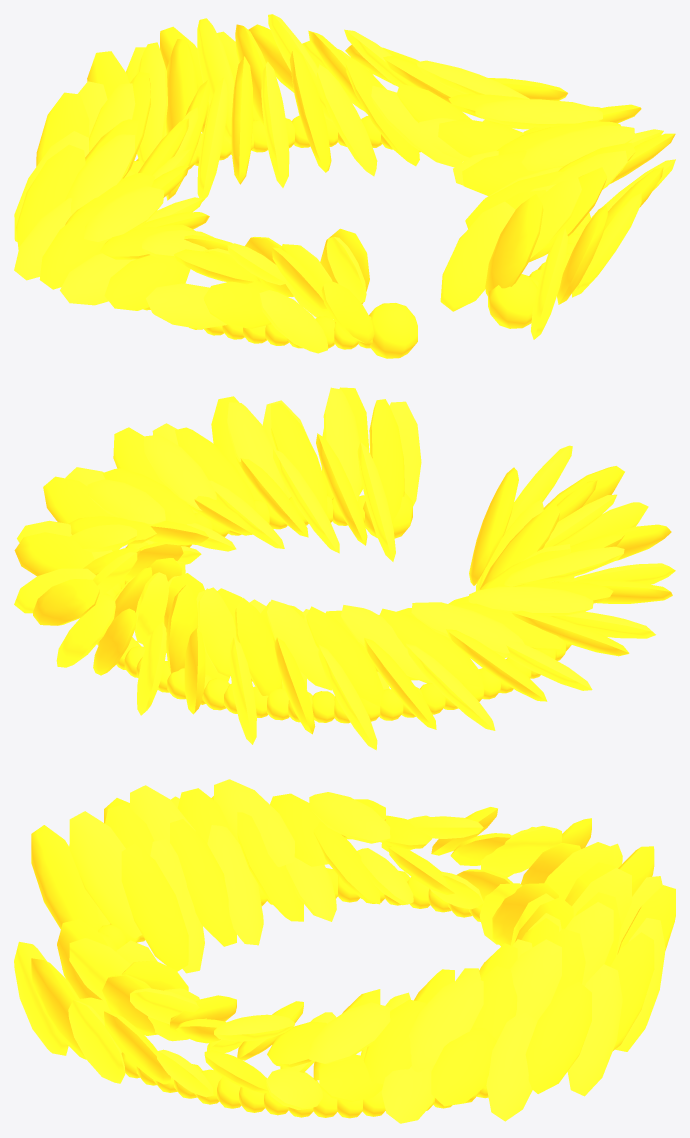
The model's file is coroa_louros.glb.
3 views of the same model, one above another, from view 1: azimuth 30°, elevation 25°; view 2: azimuth 150°, elevation 25°; view 3: azimuth 270°, elevation 25° (orthographic). The views are drawn at different scales.
Parts seen in each view (by area): view 1: coroa_louros; view 2: coroa_louros; view 3: coroa_louros.
Boxes of the visible parts, x1=… form: coroa_louros: x1=14, y1=14, x2=675, y2=358; coroa_louros: x1=14, y1=387, x2=675, y2=750; coroa_louros: x1=14, y1=779, x2=675, y2=1123.
Size of the model in its own units: 0.2906 by 0.0665 by 0.2589.
